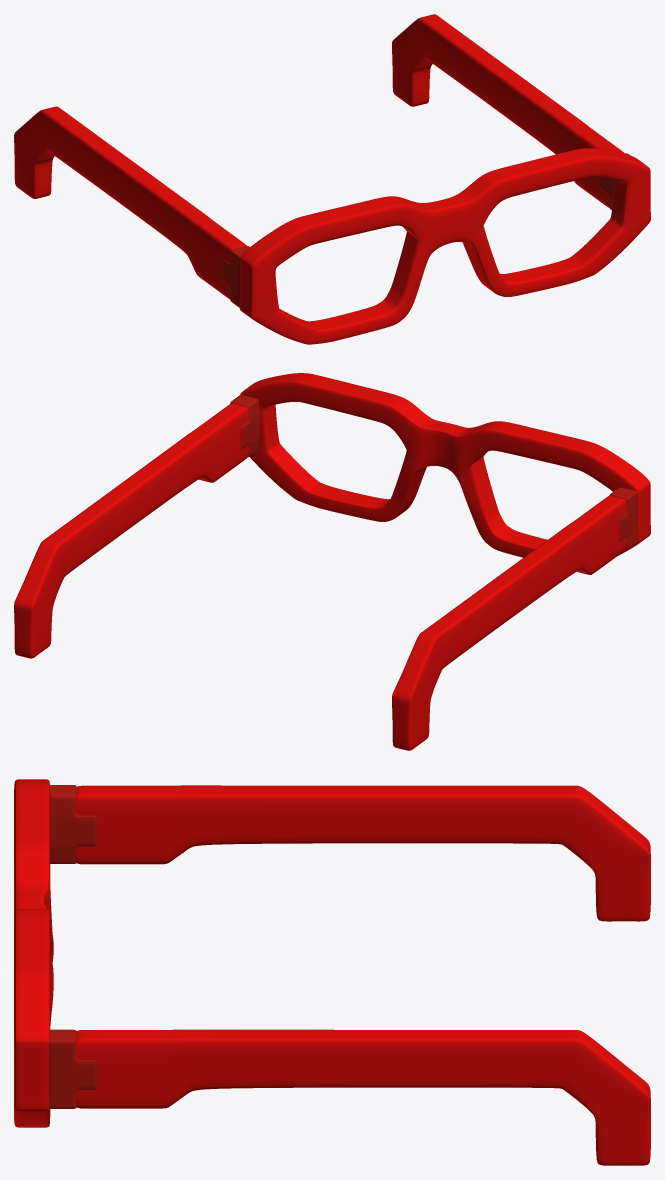
The model's file is GlassesRed.fbx.
3 views of the same model, one above another, from view 1: azimuth 30°, elevation 25°; view 2: azimuth 150°, elevation 25°; view 3: azimuth 270°, elevation 25° (orthographic). The views are drawn at different scales.
Parts seen in each view (by area): view 1: Cube, Cube.002, Cube.001; view 2: Cube.002, Cube, Cube.001; view 3: Cube.002, Cube, Cube.001.
Boxes of the visible parts, x1=… form: Cube: x1=239, y1=148, x2=650, y2=344; Cube.002: x1=14, y1=14, x2=624, y2=299; Cube.001: x1=222, y1=153, x2=629, y2=307; Cube.002: x1=14, y1=403, x2=626, y2=750; Cube: x1=240, y1=373, x2=650, y2=557; Cube.001: x1=230, y1=395, x2=637, y2=549; Cube.002: x1=75, y1=785, x2=650, y2=1165; Cube: x1=14, y1=779, x2=53, y2=1127; Cube.001: x1=49, y1=785, x2=96, y2=1108.
Bounding box in the file's own units: 12.74 × 3.7 × 13.26.
